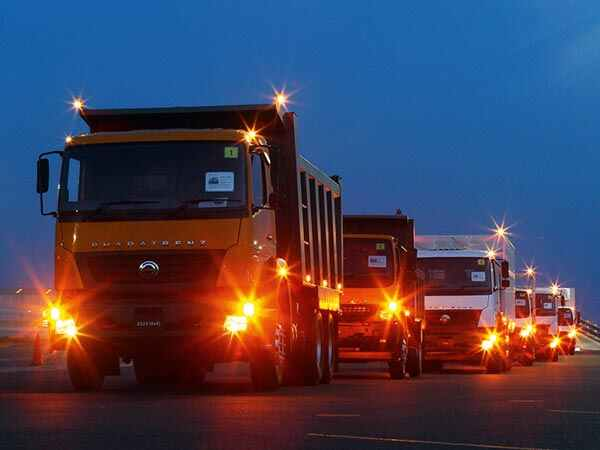truck: (46, 107, 302, 391), (345, 214, 420, 378), (417, 234, 505, 371), (532, 284, 560, 363), (509, 287, 534, 368), (556, 291, 579, 359)
